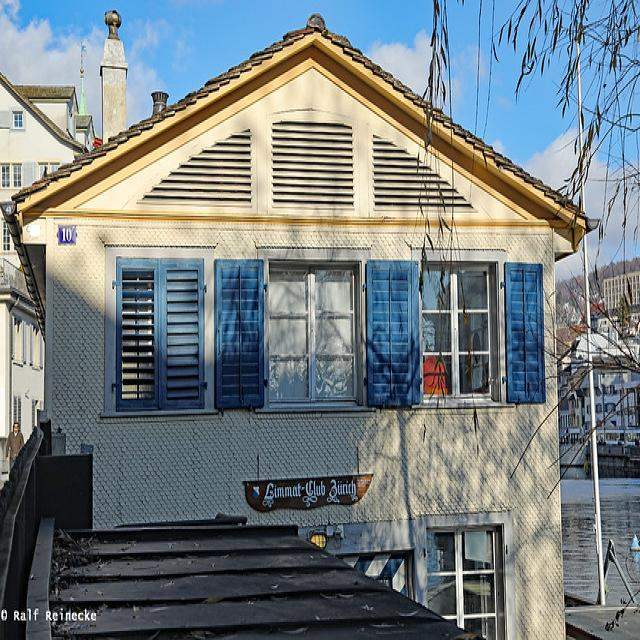building: (12, 13, 596, 630)
